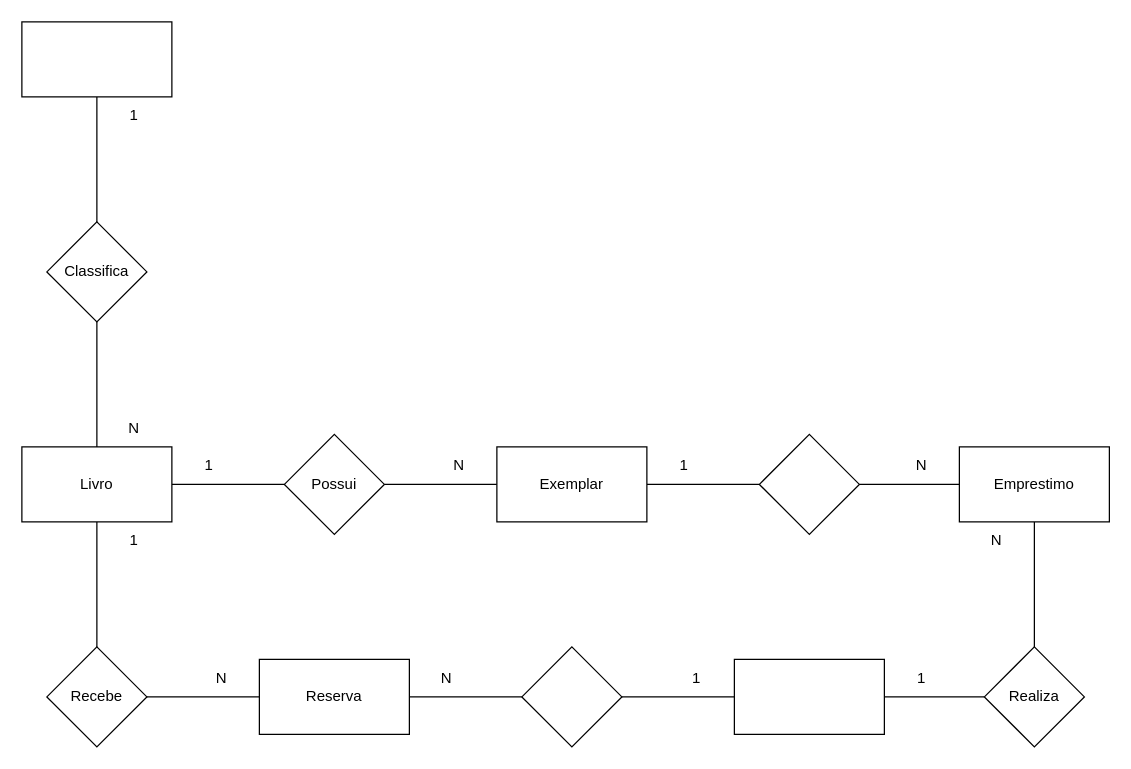
This 1131x769 diagram has some shape labels left out. The box of each missing label's shape, as (x1, y1, x2, y2) in pixels:
Aluno: (733, 658, 884, 734)
Categoria: (21, 21, 172, 97)
Participa: (758, 433, 859, 534)
Solicita: (521, 646, 622, 747)
